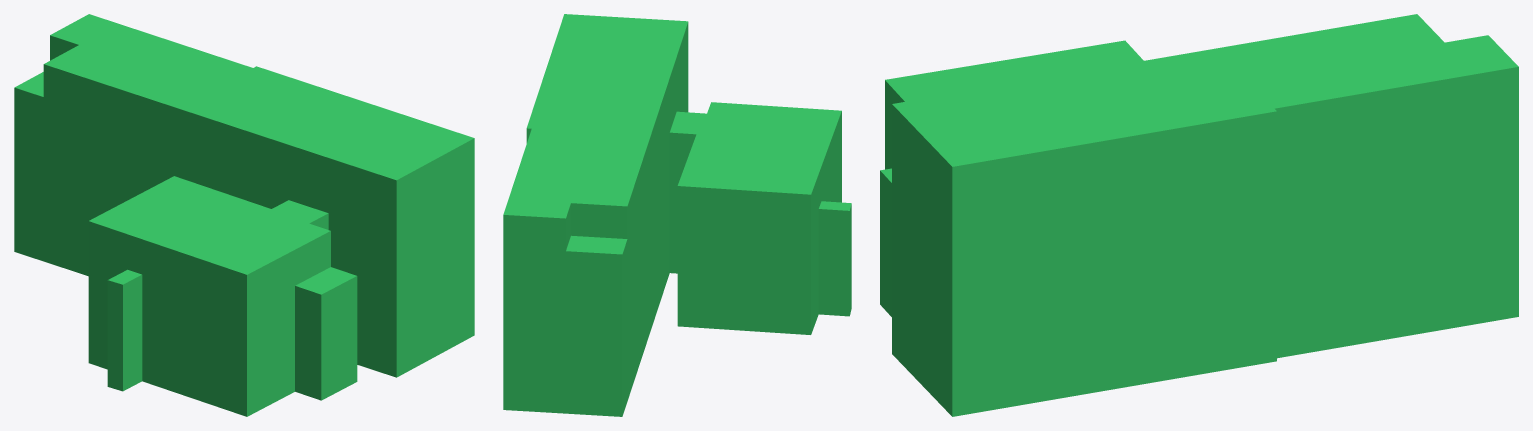
The model's file is building3.glb.
3 views of the same model, side by side, from view 1: azimuth 30°, elevation 25°; view 2: azimuth 150°, elevation 25°; view 3: azimuth 270°, elevation 25° (orthographic). The views are drawn at different scales.
Parts seen in each view (by area): view 1: building3; view 2: building3; view 3: building3.
Part boxes in pixels (x1,y1,x2,y2): building3: [14, 14, 474, 416]; building3: [503, 14, 851, 416]; building3: [880, 14, 1518, 416].
Size of the model in its own units: 44.67 by 25.7 by 59.5.
